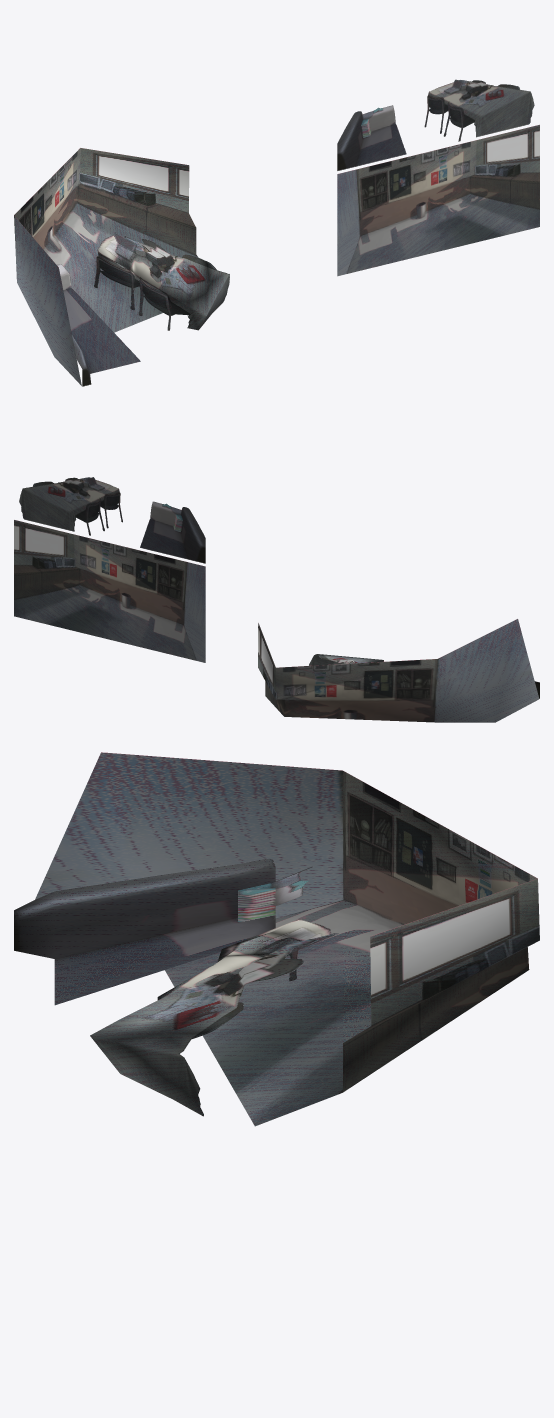
File: bg_clubroom.FBX
The picture shows the model from 3 angles, top to bottom: view 1: azimuth 30°, elevation 25°; view 2: azimuth 150°, elevation 25°; view 3: azimuth 270°, elevation 25°; orthographic projection. The views are drawn at different scales.
Visible parts, largest first — view 1: bg, map sample; view 2: map sample, bg; view 3: bg.
Part boxes in pixels (bbox=[...]): bg: bbox=[14, 148, 229, 386]; map sample: bbox=[337, 79, 539, 276]; map sample: bbox=[14, 477, 205, 662]; bg: bbox=[258, 619, 539, 722]; bg: bbox=[14, 752, 539, 1126].
Bounding box in the file's own units: 250 × 100 × 120.
1 material, 1 textured.
